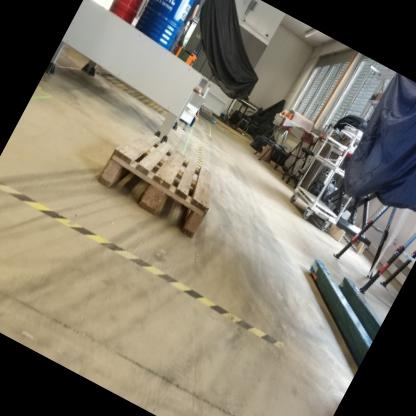BoxFace: (94, 127, 215, 241)
